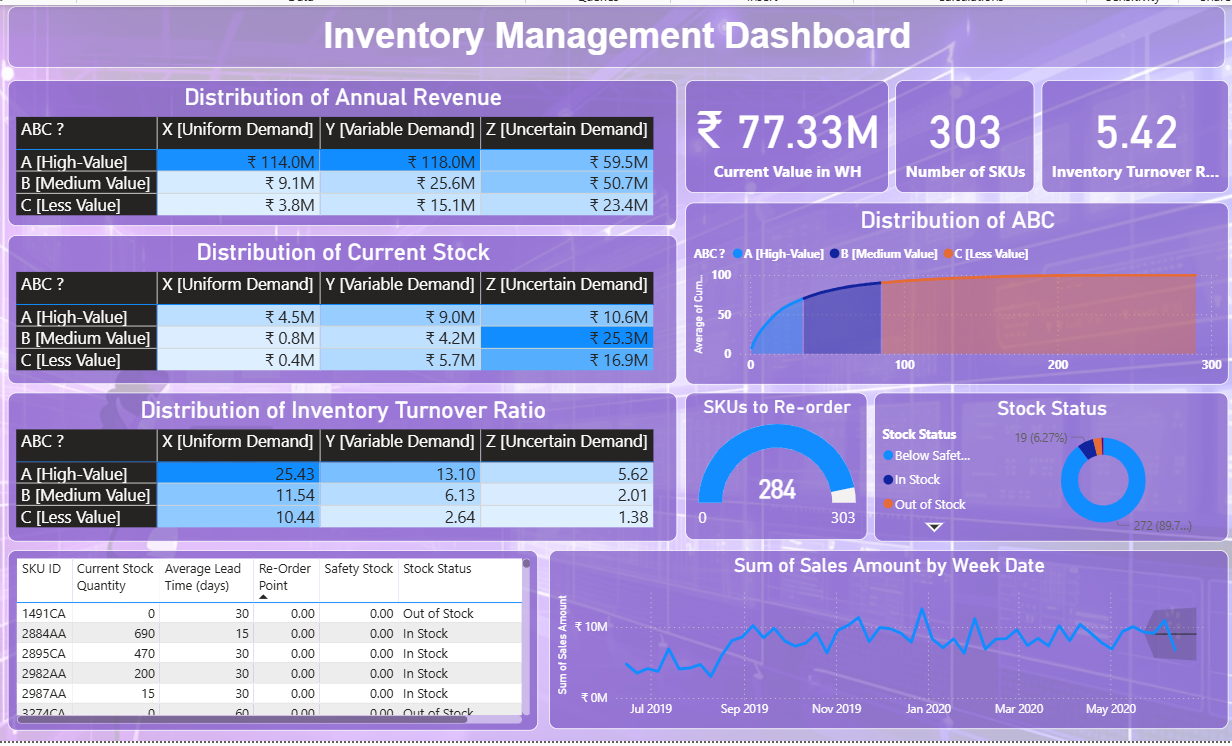

The page's visual inventory and layout, read from the dashboard file:
{"tool":"powerbi","page":{"name":"Page 2","canvas":[1292,766],"ordinal":1},"visuals":[{"type":"stackedAreaChart","title":"Distribution of ABC","fields":{"Category":["Stock.ABC Rank"],"Y":["Avg(Stock.Cummulative Share)"],"Series":["Stock.ABC ?"]},"box":[719,205.2,565.5,189.7],"z":0},{"type":"pivotTable","title":"Distribution of Annual Revenue","fields":{"Rows":["Stock.ABC ?"],"Columns":["Stock.XYZ ?"],"Values":["Sum(Stock.Annual Revenue)"]},"box":[13.8,77.6,696.6,151.7],"z":1000},{"type":"pivotTable","title":"Distribution of Current Stock","fields":{"Rows":["Stock.ABC ?"],"Columns":["Stock.XYZ ?"],"Values":["Sum(Stock.Value in WH)"]},"box":[13.8,239.7,696.6,155.2],"z":2000},{"type":"card","fields":{"Values":["Stock.Inventory Turnover Ratio"]},"box":[1089.7,77.6,194.8,117.2],"z":3000},{"type":"card","fields":{"Values":["Count(Stock.SKU ID)"]},"box":[937.9,77.6,144.8,117.2],"z":4000},{"type":"card","fields":{"Values":["Sum(Stock.Value in WH)"]},"box":[719,77.6,212.1,117.2],"z":5000},{"type":"pivotTable","title":"Distribution of Inventory Turnover Ratio","fields":{"Rows":["Stock.ABC ?"],"Columns":["Stock.XYZ ?"],"Values":["Stock.Inventory Turnover Ratio"]},"box":[13.8,403.4,696.6,155.2],"z":6000},{"type":"tableEx","fields":{"Values":["Stock.SKU ID","Stock.Current Stock Quantity","Stock.Average Lead Time (days)","Stock.Re-Order Point","Stock.Safety Stock","Stock.Stock Status"]},"box":[13.8,567.2,551.7,187.9],"z":7000},{"type":"gauge","title":"SKUs to Re-order","fields":{"Y":["Stock.SKUs to Re-order"],"MaxValue":["CountNonNull(Stock.SKU ID)"]},"box":[719,403.4,189.7,153.4],"z":8000},{"type":"donutChart","title":"Stock Status","fields":{"Category":["Stock.Stock Status"],"Y":["CountNonNull(Stock.SKU ID)"]},"box":[915.5,403.4,369,155.2],"z":9000},{"type":"lineChart","fields":{"Category":["Weekly Demand Sheet.Week Date"],"Y":["Sum(Weekly Demand Sheet.Sales Amount)"]},"box":[577.6,567.2,706.9,186.2],"z":10000},{"type":"textbox","box":[13.8,1.7,1267.2,63.8],"z":11000}]}

Visuals, with their boxes on the page's 1292x766 design canvas (x1, y1, x2, y2). These are canvas units, not pixel positions in the 1232x746 screenshot, which may show the page scaled, cropped or inside an application window:
"Distribution of ABC" stackedAreaChart: left=719, top=205, right=1284, bottom=395
"Distribution of Annual Revenue" pivotTable: left=14, top=78, right=710, bottom=229
"Distribution of Current Stock" pivotTable: left=14, top=240, right=710, bottom=395
card - Stock.Inventory Turnover Ratio: left=1090, top=78, right=1284, bottom=195
card - Count(Stock.SKU ID): left=938, top=78, right=1083, bottom=195
card - Sum(Stock.Value in WH): left=719, top=78, right=931, bottom=195
"Distribution of Inventory Turnover Ratio" pivotTable: left=14, top=403, right=710, bottom=559
tableEx - Stock.SKU ID x Stock.Current Stock Quantity: left=14, top=567, right=566, bottom=755
"SKUs to Re-order" gauge: left=719, top=403, right=909, bottom=557
"Stock Status" donutChart: left=916, top=403, right=1284, bottom=559
lineChart - Weekly Demand Sheet.Week Date x Sum(Weekly Demand Sheet.Sales Amount): left=578, top=567, right=1284, bottom=753
textbox: left=14, top=2, right=1281, bottom=66
